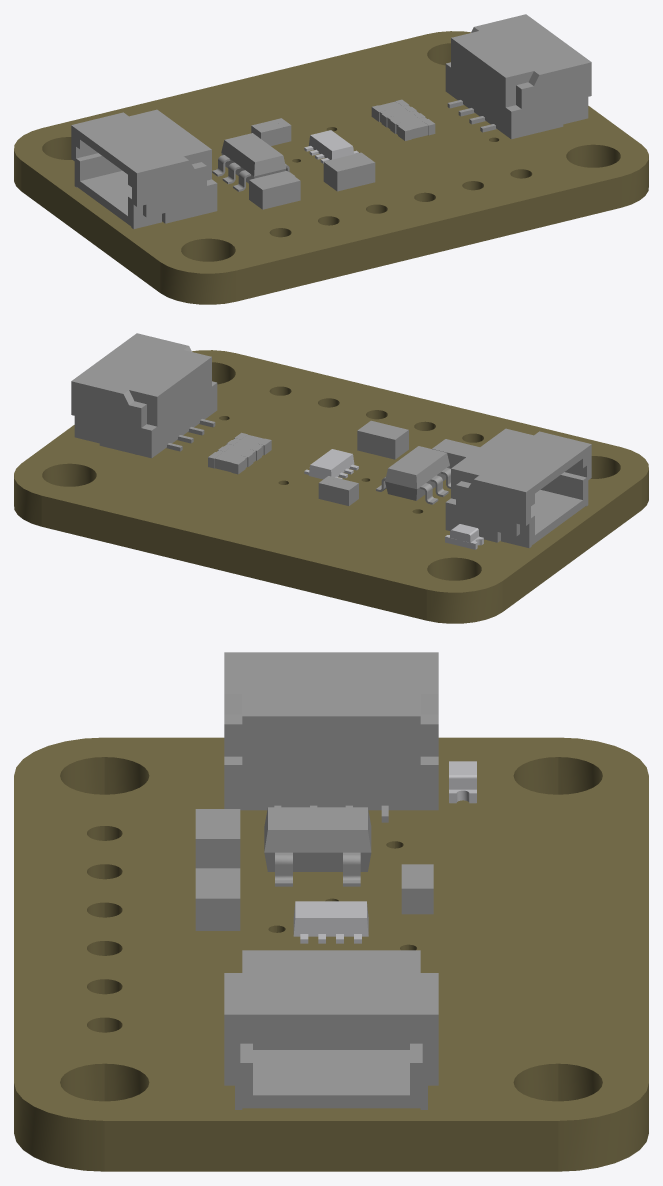
File: ada-6335.glb
The picture shows the model from 3 angles, top to bottom: view 1: azimuth 30°, elevation 25°; view 2: azimuth 150°, elevation 25°; view 3: azimuth 270°, elevation 25°; orthographic projection. The views are drawn at different scales.
Parts seen in each view (by area): view 1: 0.16666666666666666_0.16666666666666666_0.08333333333333333_, 0.3333333333333333_0.3333333333333333_0.3333333333333333_0, 0.5833333333333334_0.5833333333333334_0.5833333333333334_0.8; view 2: 0.16666666666666666_0.16666666666666666_0.08333333333333333_, 0.3333333333333333_0.3333333333333333_0.3333333333333333_0, 0.5833333333333334_0.5833333333333334_0.5833333333333334_0.8; view 3: 0.16666666666666666_0.16666666666666666_0.08333333333333333_, 0.3333333333333333_0.3333333333333333_0.3333333333333333_0, 0.5833333333333334_0.5833333333333334_0.5833333333333334_0.8.
Part boxes in pixels (left/top/right/bottom): 0.16666666666666666_0.16666666666666666_0.08333333333333333_: left=14, top=31, right=648, bottom=304; 0.3333333333333333_0.3333333333333333_0.3333333333333333_0: left=71, top=14, right=591, bottom=229; 0.5833333333333334_0.5833333333333334_0.5833333333333334_0.8: left=304, top=130, right=358, bottom=163; 0.16666666666666666_0.16666666666666666_0.08333333333333333_: left=14, top=350, right=648, bottom=623; 0.3333333333333333_0.3333333333333333_0.3333333333333333_0: left=71, top=333, right=591, bottom=548; 0.5833333333333334_0.5833333333333334_0.5833333333333334_0.8: left=304, top=449, right=483, bottom=549; 0.16666666666666666_0.16666666666666666_0.08333333333333333_: left=14, top=737, right=648, bottom=1171; 0.3333333333333333_0.3333333333333333_0.3333333333333333_0: left=195, top=652, right=438, bottom=1109; 0.5833333333333334_0.5833333333333334_0.5833333333333334_0.8: left=293, top=761, right=476, bottom=943.
Size of the model in its own units: 2.54 by 0.4529 by 1.78.
